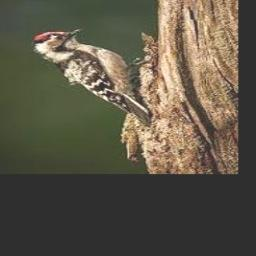Woodpecker: (31, 28, 150, 125)
